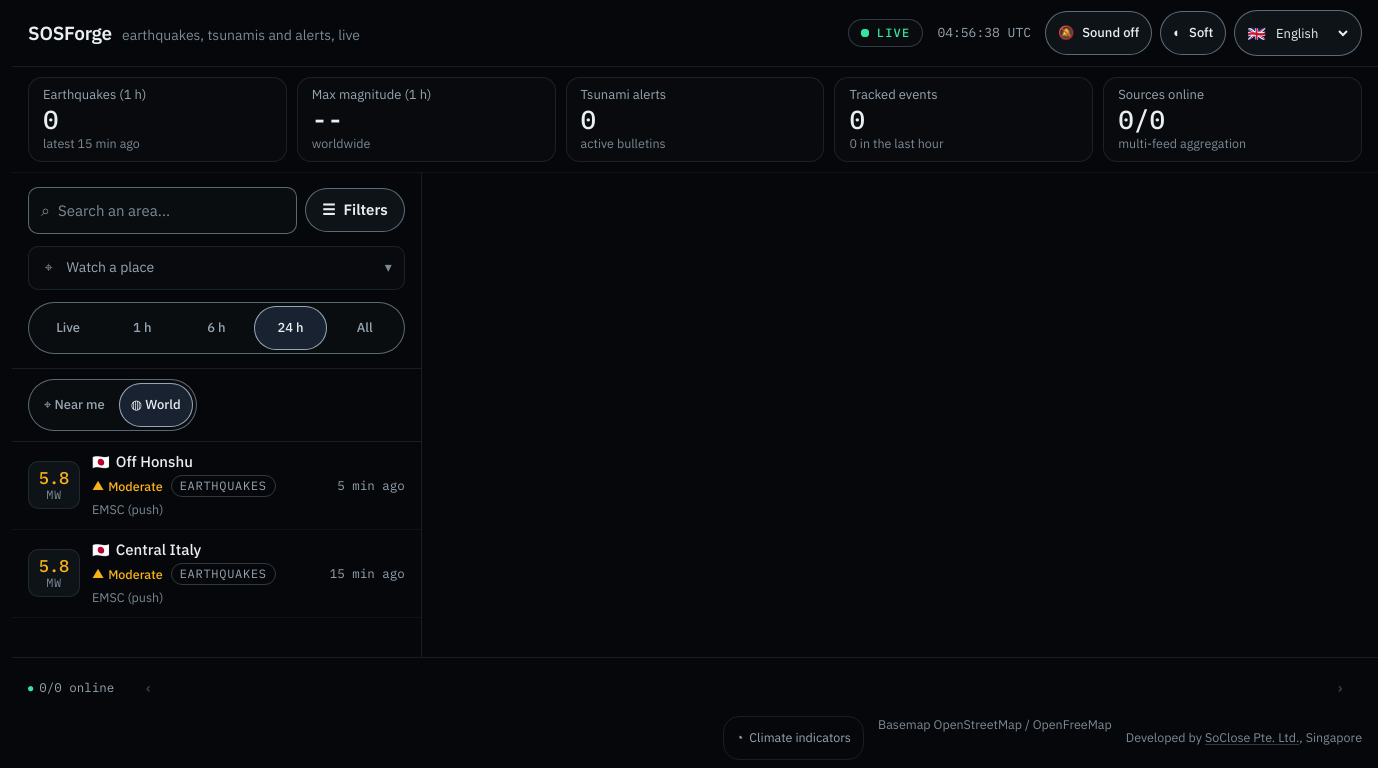
Test: picking a place from the search › with nothing near: says so, and lists the nearest events with their distance
Type "koh samui" into the dropdown labelled "Search an area...". click: [174, 210]
box: [58, 188, 290, 233]
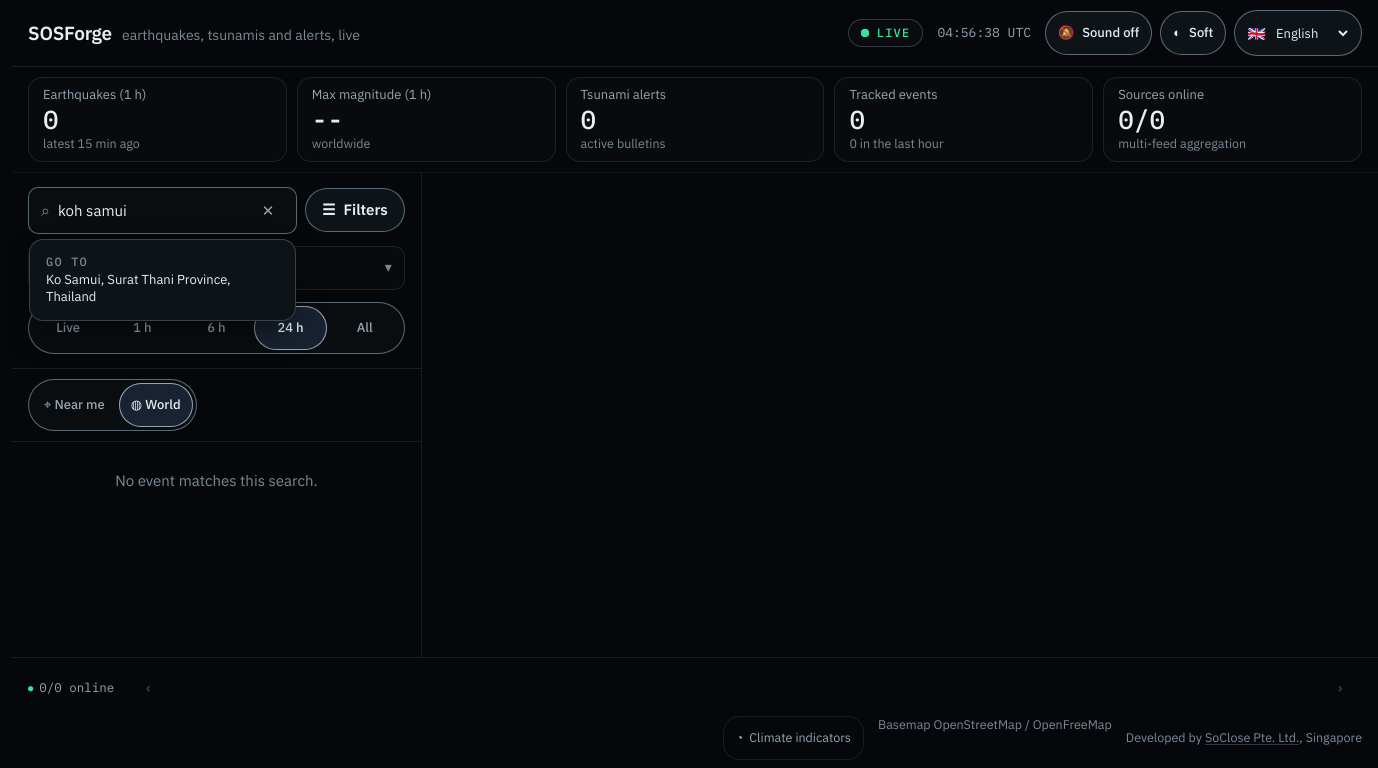
Check: the list is shown, box [29, 239, 296, 321]
Press Enter in the dropdown named "Search an area...", box [58, 188, 238, 233]
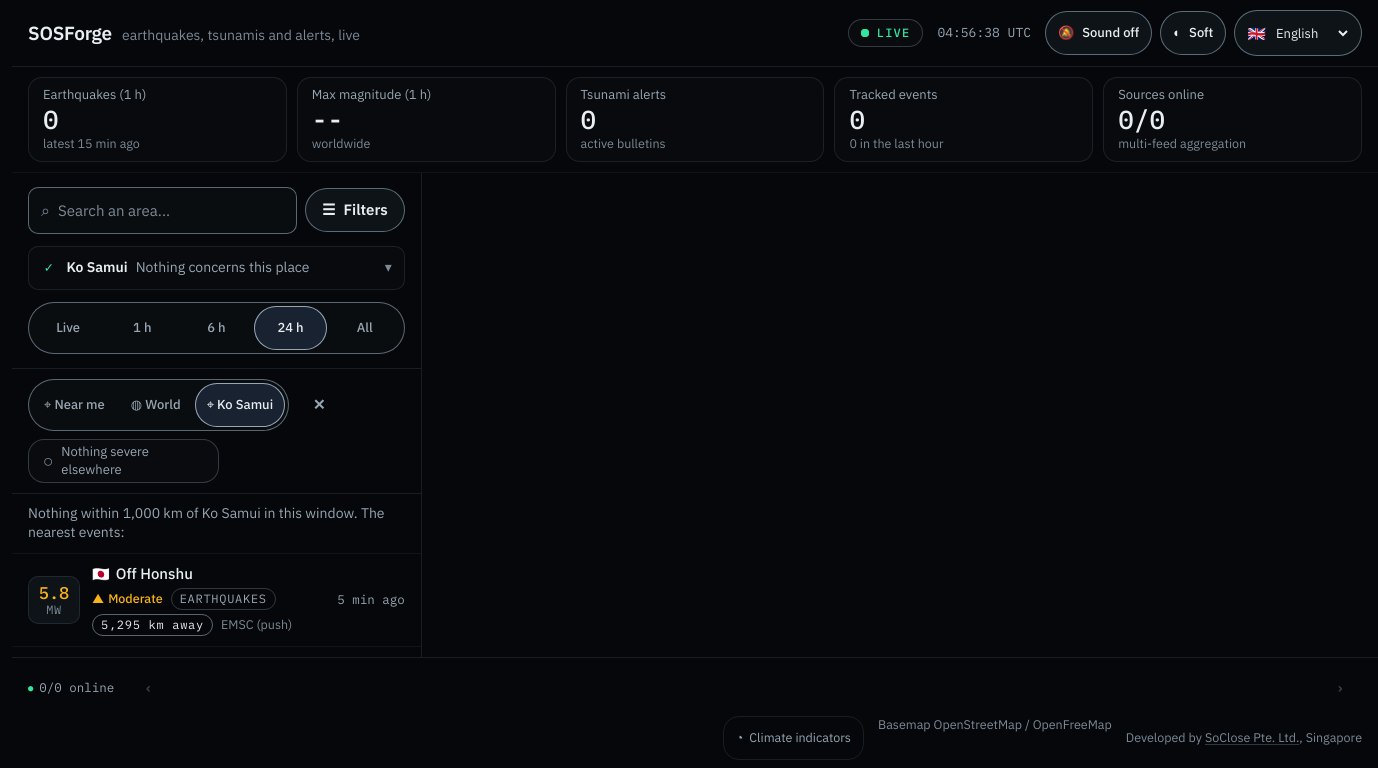
Check: the text "Nothing within 1,000 km of Ko Samui in this window. The nearest events:" is shown, box [12, 494, 421, 554]
Check: the button that starts with "Off Honshu" is shown, box [12, 554, 421, 647]
Check: the text with class "tag-distance" shows "km away", box [101, 617, 204, 632]
